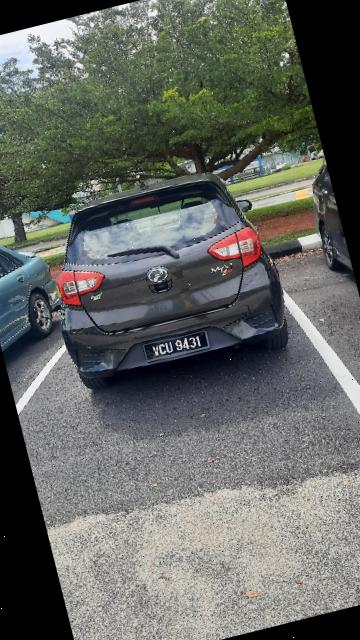License_Plate: (142, 327, 215, 366)
car: (32, 159, 299, 403)
